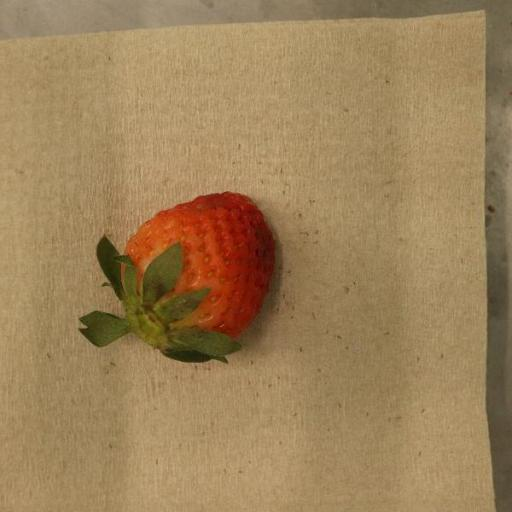Strawberry: (77, 192, 277, 365)
